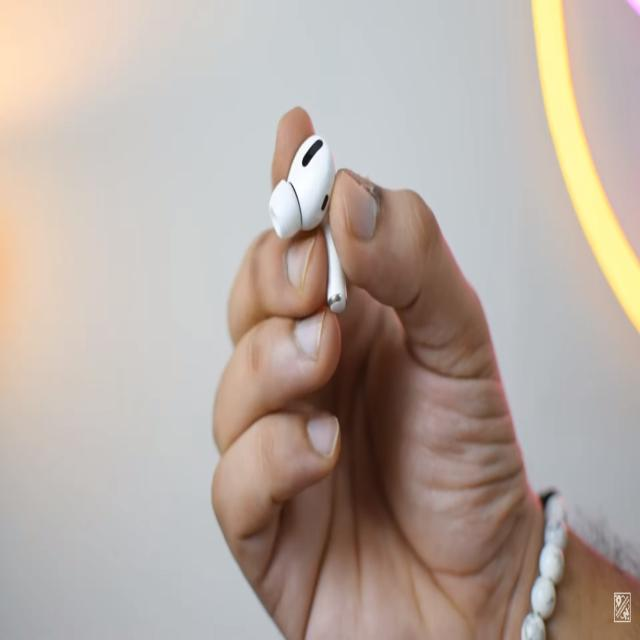airpods: (267, 131, 348, 316)
